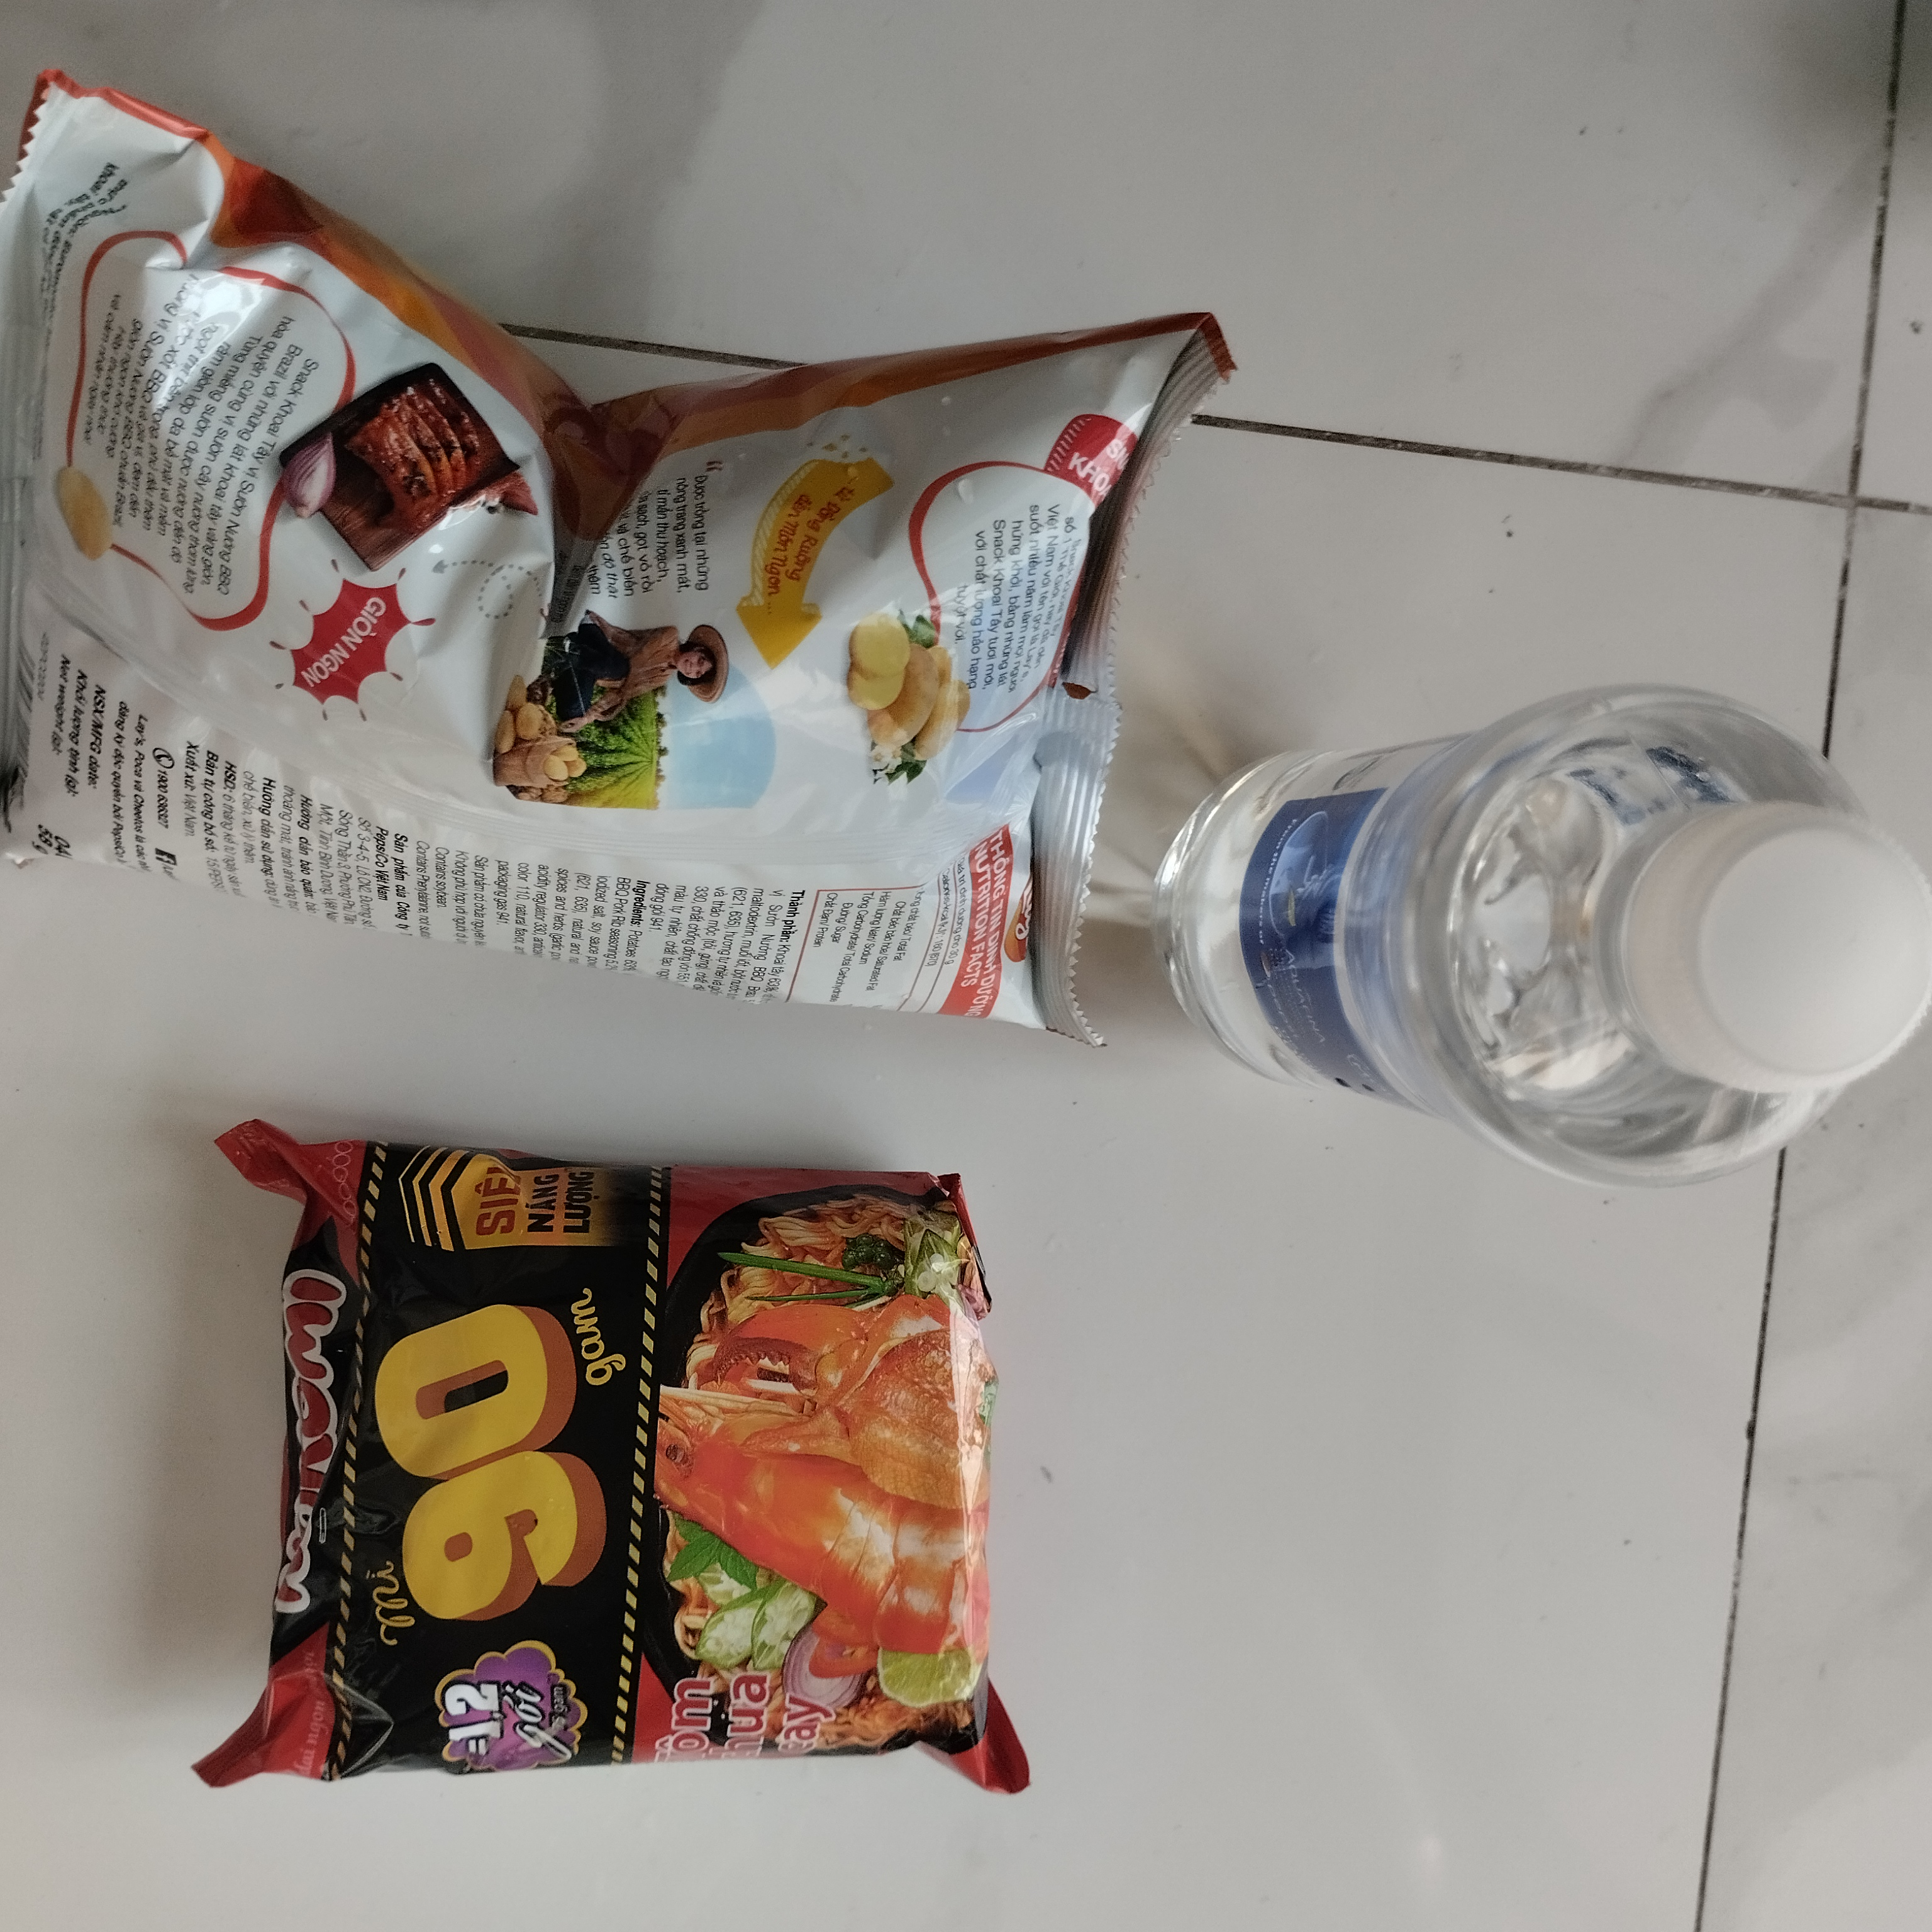Aquafina: (1155, 679, 1932, 1191)
Kokomi: (172, 1106, 1049, 1817)
Lays: (2, 53, 1242, 1070)
